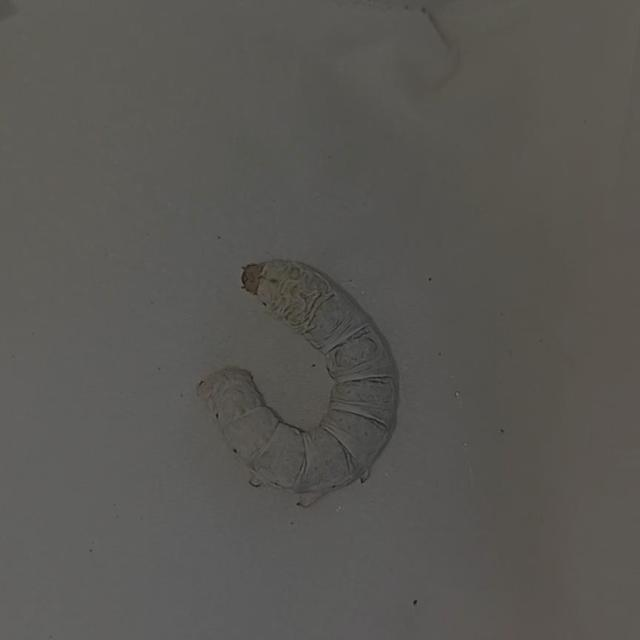Healthy: (185, 251, 408, 517)
